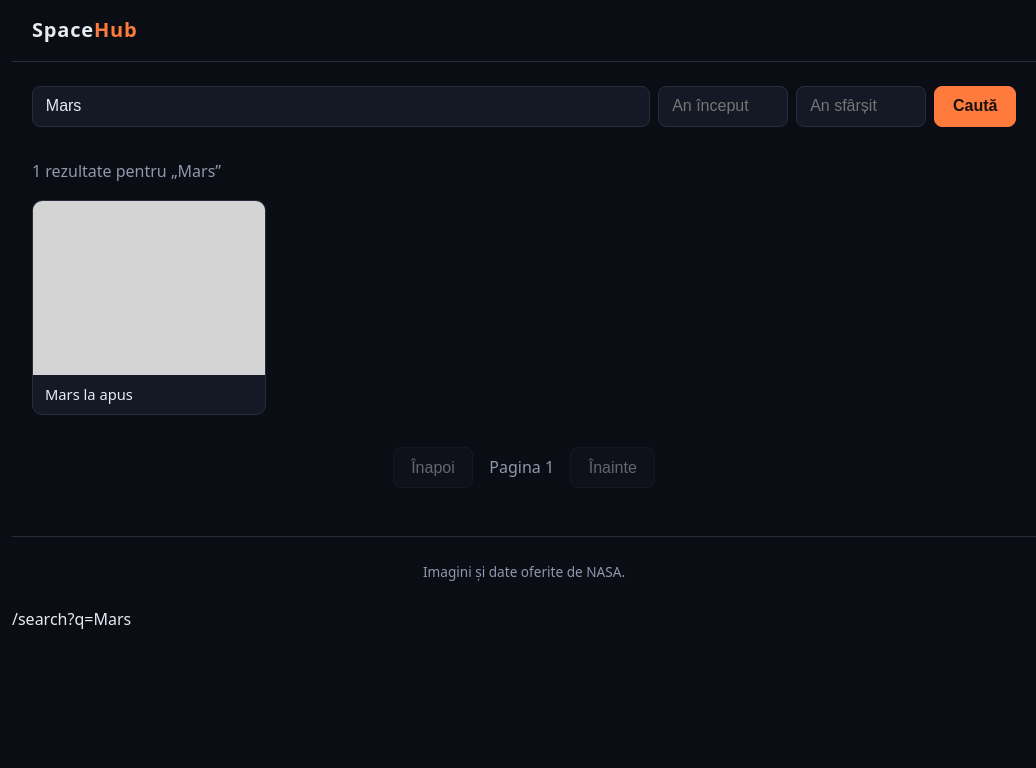
Test case: US10 - Filtrare după an › trimite anul de început și de sfârșit către API
The image size is (1036, 768).
Expected: the text "Mars la apus" is shown, 45,384 -> 133,404
Step 1. Type "2010" into the number field named "An de început" → [723, 106], box 658,86 -> 788,127
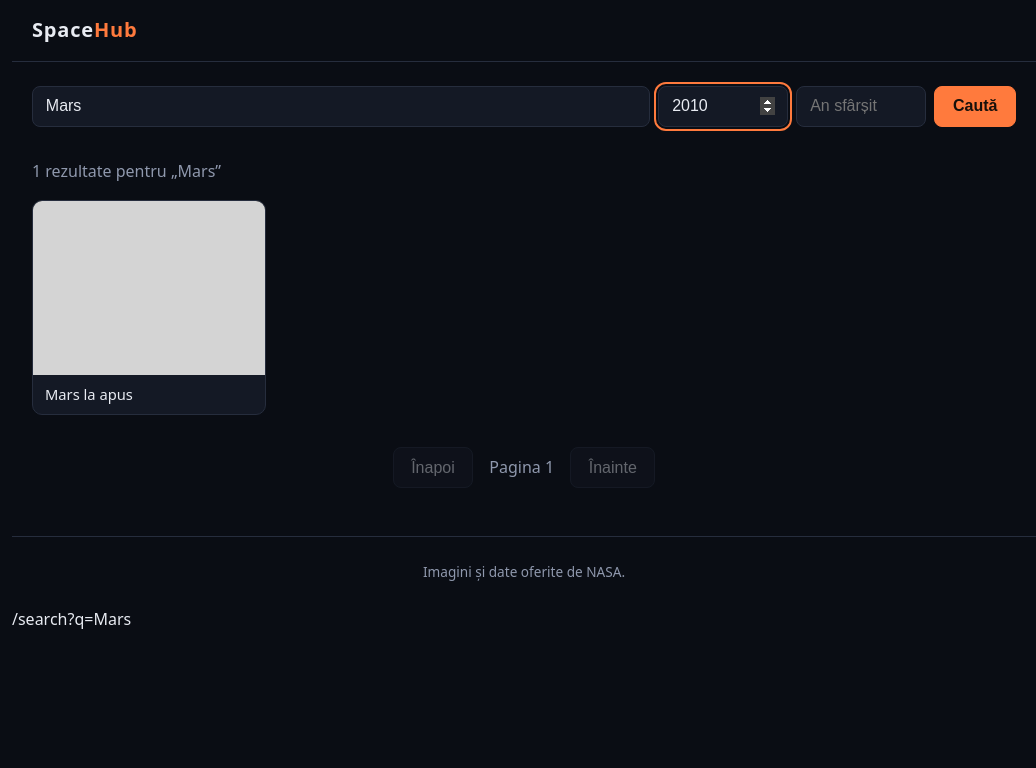
Step 2. Type "2015" into the number field named "An de sfârșit" → [861, 106], box 796,86 -> 926,127
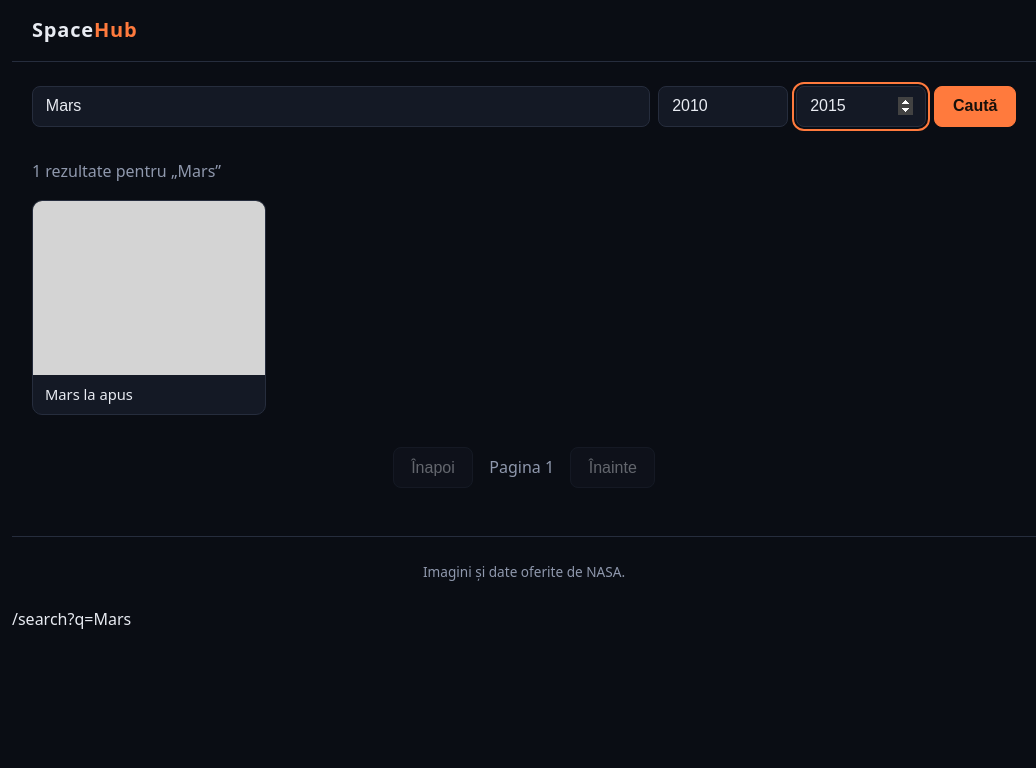
Step 3. Click the button "Caută" → [975, 106], box 934,86 -> 1016,127
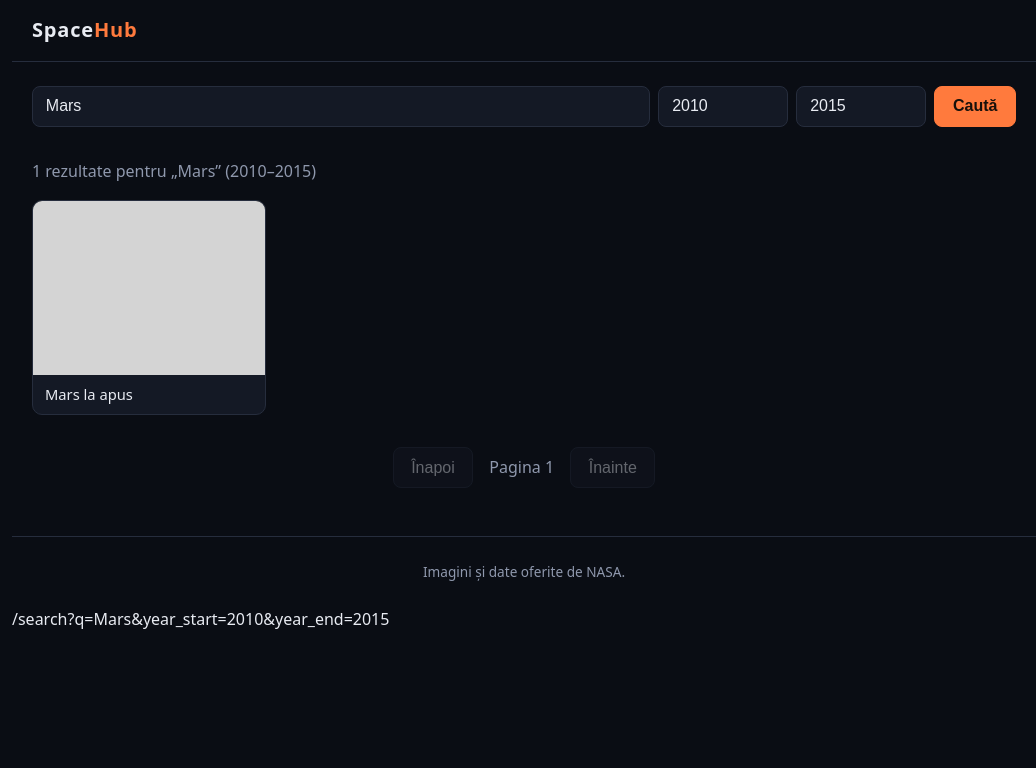
Expected: the text with test id "location" reads "/search?q=Mars&year_start=2010&year_end=2015", 12,608 -> 389,630
